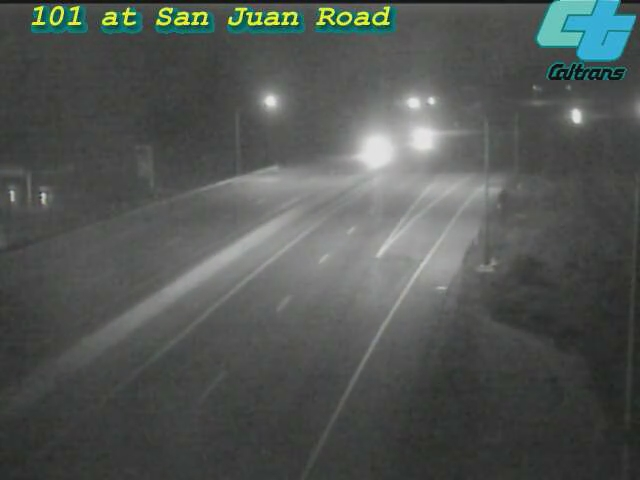vehicle: (343, 124, 393, 174), (393, 114, 443, 164), (551, 90, 601, 140)
